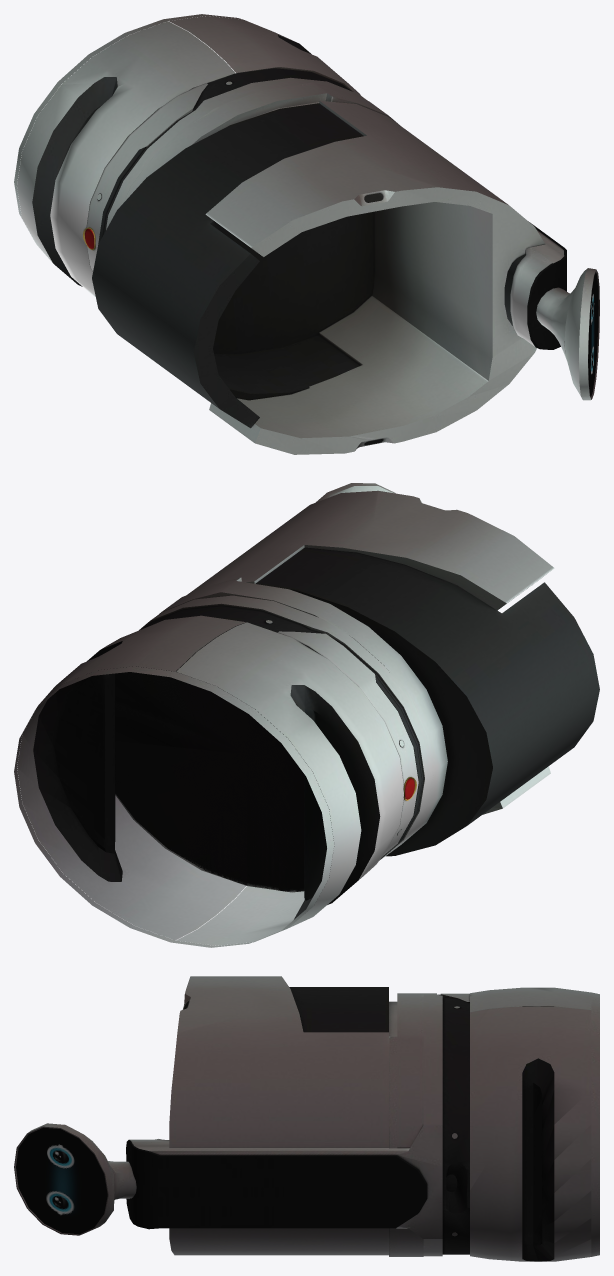
Rendered from CLOi_porter.obj.
3 views of the same model, one above another, from view 1: azimuth 30°, elevation 25°; view 2: azimuth 150°, elevation 25°; view 3: azimuth 270°, elevation 25° (orthographic). The views are drawn at different scales.
Parts seen in each view (by area): view 1: Boole_1, back, base_back, base_front, bottom, base_head, base_backhead, base_top, base_neck, base_display, base_middle, base_base (+1 smaller); view 2: back, base_front, base_back, base_middle, Boole_1, bottom, base_base, base_top, base_backhead, base_backline; view 3: Boole_1, base_front, base_display, base_head, base_middle, bottom, base_neck, back, base_top, base_base, base_back, base_support.
Boxes of the visible parts, x1,y1,x2,y2 form: Boole_1: (205,100,545,454); back: (92,103,373,428); base_back: (17,21,235,297); base_front: (169,16,360,95); bottom: (124,82,398,201); base_head: (564,268,599,400); base_backhead: (86,83,207,271); base_top: (106,77,367,229); base_neck: (504,230,564,346); base_display: (527,221,566,349); base_middle: (103,68,351,234); base_base: (14,14,242,244); back: (255,547,599,856); base_front: (17,615,246,940); base_back: (176,622,403,945); base_middle: (115,605,423,890); Boole_1: (187,490,554,814); bottom: (159,577,447,855); base_base: (14,666,334,947); base_top: (139,595,432,860); base_backhead: (277,631,418,856); base_backline: (375,674,422,856); Boole_1: (169,976,388,1255); base_front: (470,1006,591,1261); base_display: (126,1140,427,1229); base_head: (14,1123,114,1235); base_middle: (438,994,469,1254); bottom: (389,993,423,1256); base_neck: (129,1125,442,1238); back: (289,987,388,1032); base_top: (423,993,442,1256); base_base: (591,992,599,1256); base_back: (470,987,591,1012); base_support: (108,1161,136,1199).
Bounding box in the file's own units: 0.8144 × 0.5867 × 1.31.
